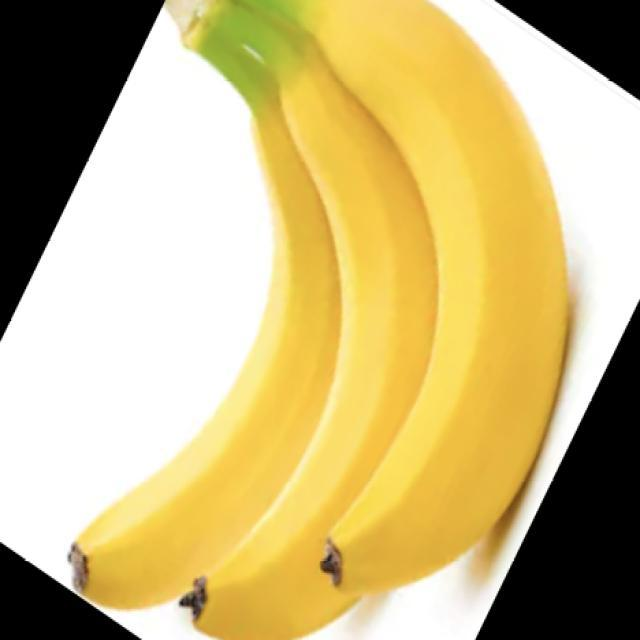Banana: (66, 0, 571, 639)
